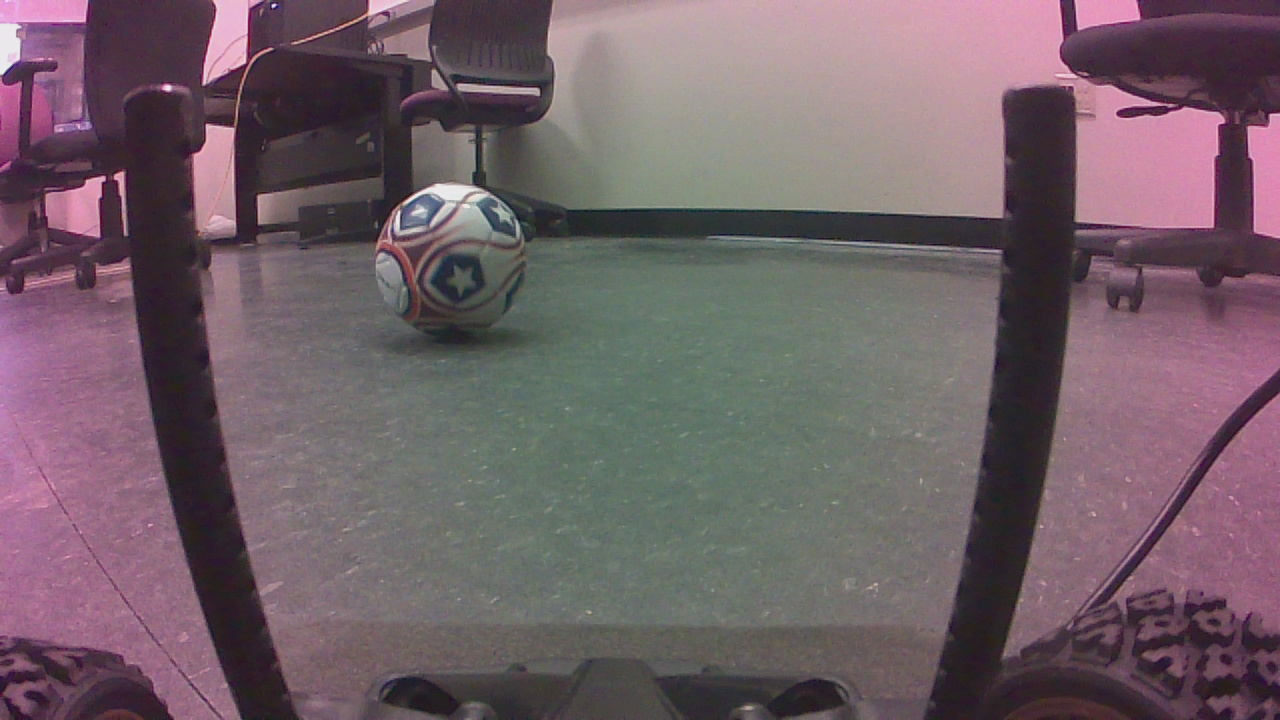ball: (380, 186, 535, 343)
